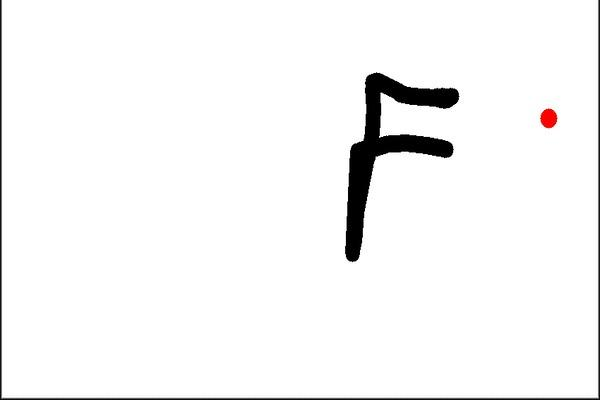F: (340, 70, 459, 263)
